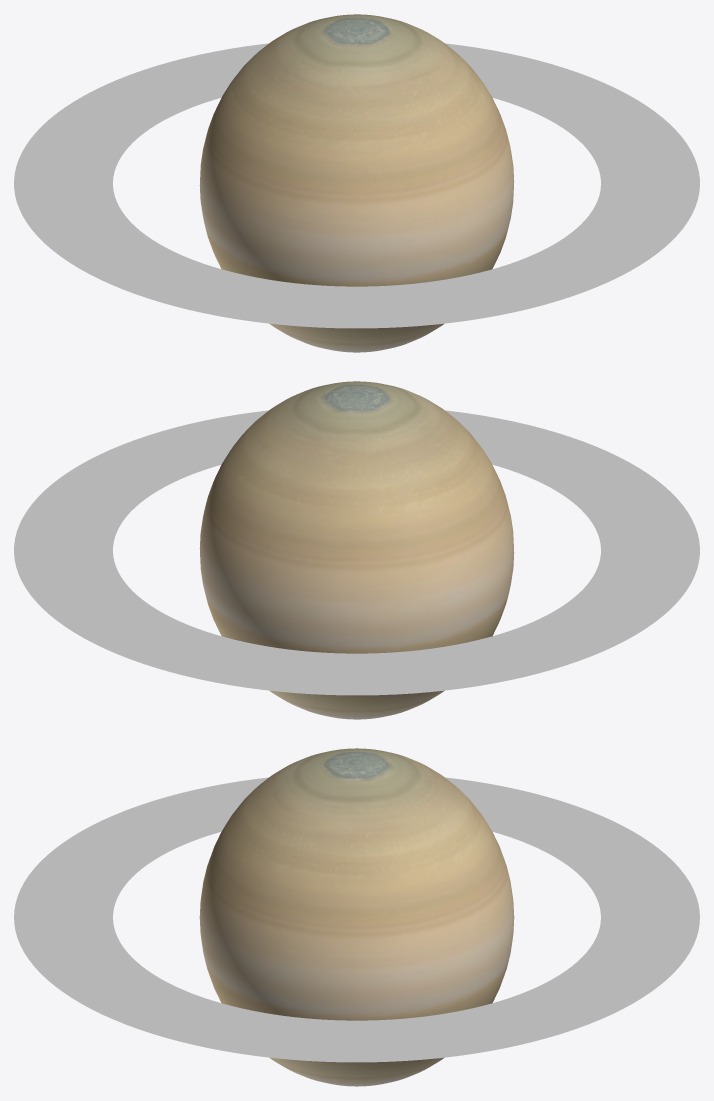
3 views of the same model, one above another, from view 1: azimuth 30°, elevation 25°; view 2: azimuth 150°, elevation 25°; view 3: azimuth 270°, elevation 25° (orthographic).
Parts seen in each view (by area): view 1: Saturn; view 2: Saturn; view 3: Saturn.
Part boxes in pixels (left/top/right/bottom): Saturn: left=14, top=14, right=699, bottom=352; Saturn: left=14, top=381, right=699, bottom=719; Saturn: left=14, top=748, right=699, bottom=1086.
Size of the model in its own units: 6 by 3 by 6.
